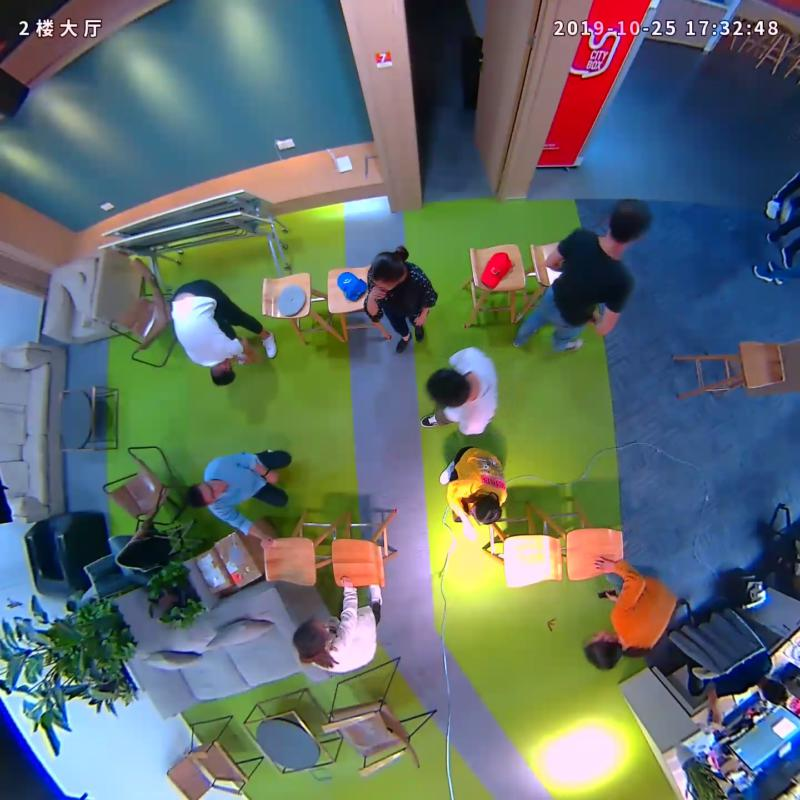head: (602, 193, 657, 249), (288, 613, 339, 668), (419, 364, 477, 410), (361, 242, 412, 292), (581, 624, 628, 674), (464, 489, 508, 533), (181, 477, 228, 510), (197, 357, 239, 389)
